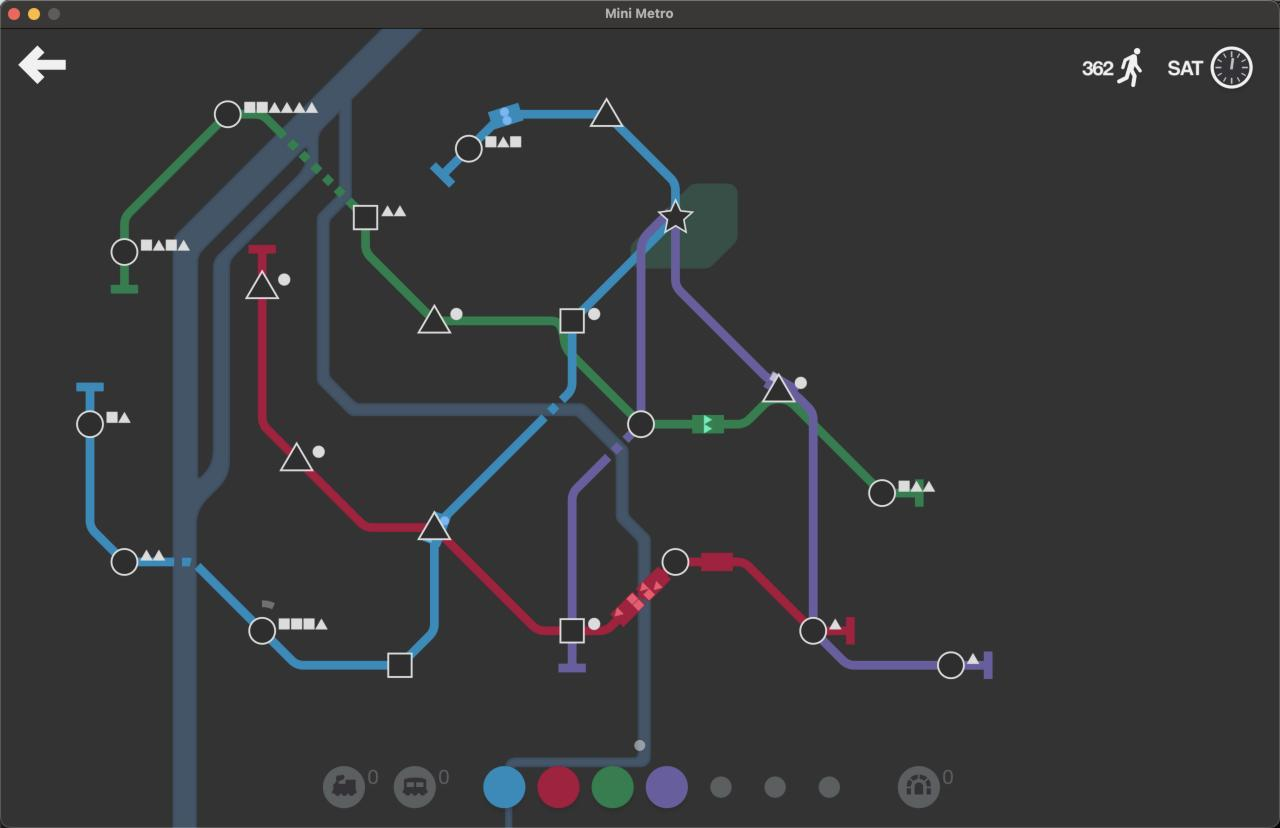CIRCLE: (867, 478, 897, 508), (799, 616, 828, 646), (75, 410, 105, 439), (213, 99, 242, 129), (110, 547, 139, 576), (627, 409, 656, 438), (454, 134, 483, 163), (110, 237, 139, 266), (661, 547, 690, 576), (937, 650, 965, 680), (248, 616, 276, 645)
SQUARE: (558, 306, 587, 334), (559, 616, 586, 645), (352, 204, 379, 231), (387, 651, 413, 679)
STAR: (657, 201, 693, 233)
TRIANGLE: (416, 510, 453, 543), (244, 269, 281, 301), (416, 304, 453, 335), (280, 441, 315, 473), (761, 372, 796, 403), (589, 97, 623, 128)
